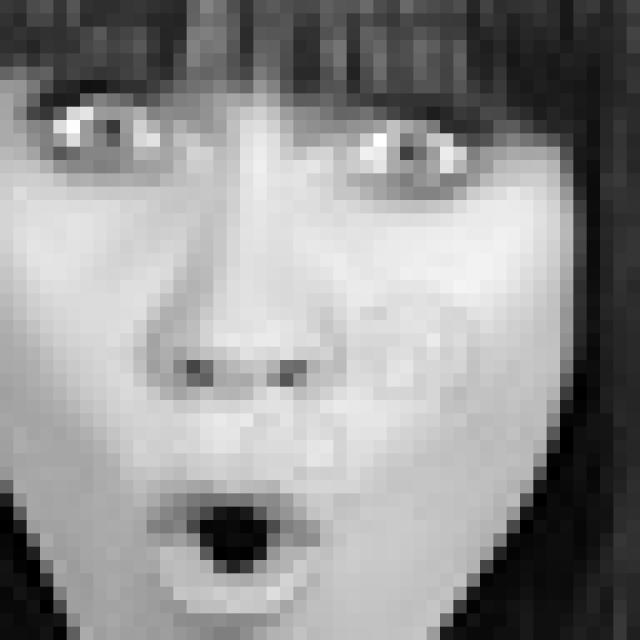surprise: (19, 64, 516, 640)
